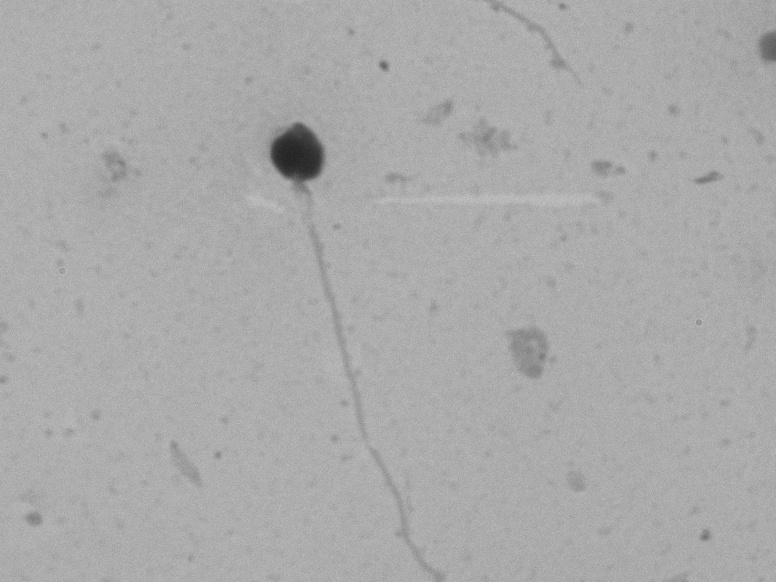Abnormal: (229, 76, 449, 548)
